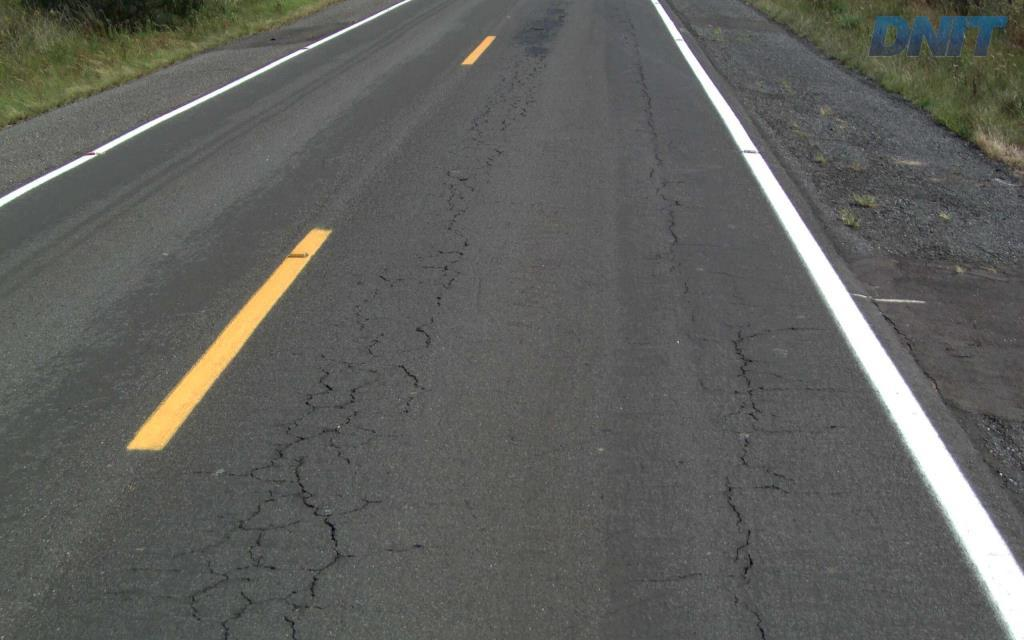crack: (293, 456, 337, 547), (730, 325, 762, 421)
